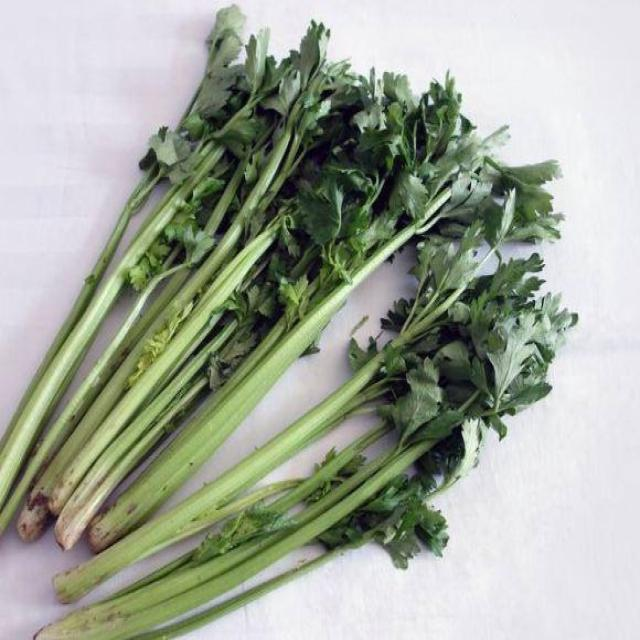-Kitchen waste - vegetable roots and leaves-: (392, 67, 536, 238), (138, 15, 274, 188), (374, 263, 586, 360), (394, 375, 547, 466), (281, 18, 380, 130), (358, 490, 487, 570)
